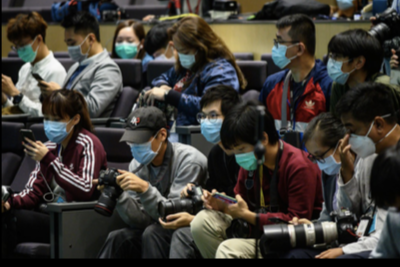with_mask: (344, 119, 375, 158), (123, 135, 159, 165), (197, 107, 224, 145), (325, 50, 354, 85), (308, 146, 341, 176), (43, 109, 72, 143), (271, 31, 296, 69), (231, 139, 260, 171), (113, 32, 141, 59), (64, 34, 90, 60), (172, 43, 197, 70), (10, 40, 38, 63), (151, 46, 176, 64)
